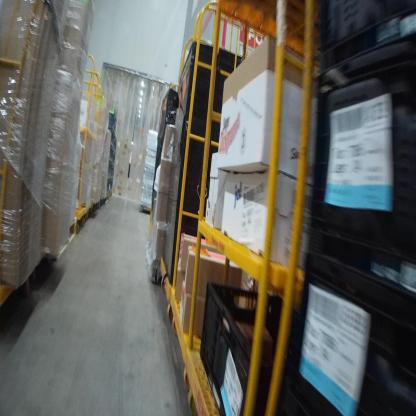pallet: (37, 218, 78, 267), (139, 202, 161, 216)
